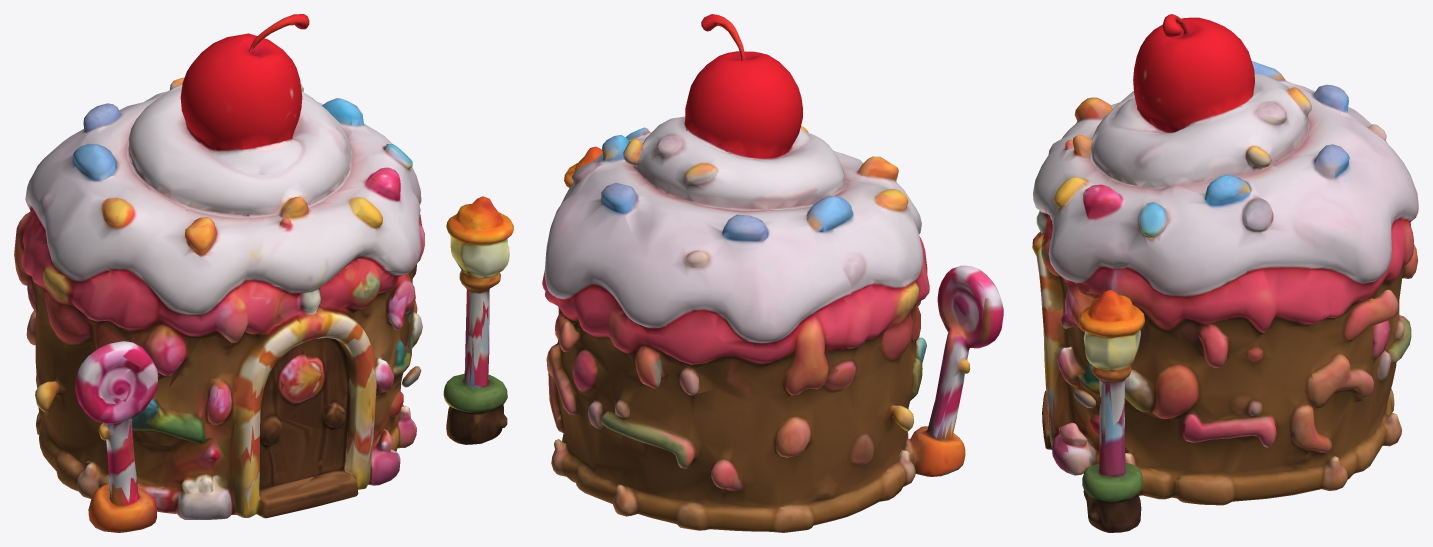
Rendered from CF_Cottage.fbx.
3 views of the same model, side by side, from view 1: azimuth 30°, elevation 25°; view 2: azimuth 150°, elevation 25°; view 3: azimuth 270°, elevation 25° (orthographic). The views are drawn at different scales.
Visible parts, largest first — view 1: CF_Cottage; view 2: CF_Cottage; view 3: CF_Cottage.
Boxes of the visible parts, box(x1,y1,x2,y2) form: CF_Cottage: box(14, 14, 513, 532); CF_Cottage: box(542, 14, 1003, 532); CF_Cottage: box(1032, 14, 1418, 532).
Bounding box in the file's own units: 13.99 × 13.34 × 10.7.
